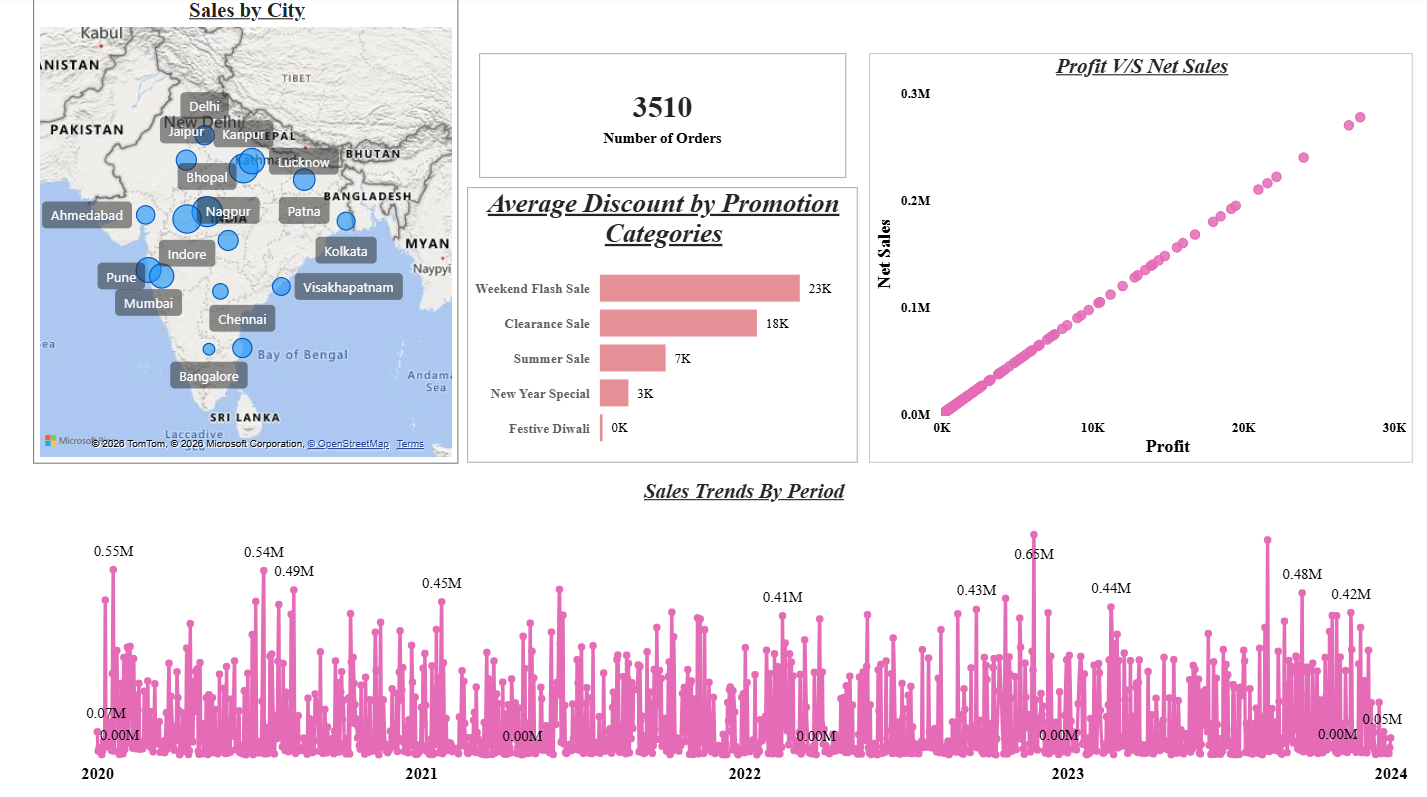

Layout of this report page (visuals, bound fields, positions):
{"tool":"powerbi","page":{"name":"Overview","canvas":[1280,720],"ordinal":0},"visuals":[{"type":"lineChart","title":"Sales Trends By Period","fields":{"Y":["Sum(Fact Table.Net Sales)"],"Category":["Fact Table.Date (dd/mm/yyyy).Variation.Date Hierarchy.Year"]},"box":[67.2,431.6,1198.2,280.3],"z":0},{"type":"scatterChart","title":"Profit V/S Net Sales","fields":{"X":["Fact Table.Profit"],"Y":["Fact Table.Net Sales"]},"box":[778.1,50.6,487.3,366.7],"z":1000},{"type":"barChart","title":"Average Discount by Promotion  Categories","fields":{"Y":["Avg(Fact Table.Discount)"],"Category":["Dim Promotion.Promotion Name"]},"box":[418.2,170.2,350.2,247.1],"z":2000},{"type":"map","title":" Sales by City","fields":{"Category":["Dim Customers.City"],"Size":["Sum(Fact Table.Net Sales)"]},"box":[29.2,0,381.3,418.2],"z":3000},{"type":"card","fields":{"Values":["Count(Fact Table.Order ID)"]},"box":[428.9,50.6,328.8,111.9],"z":4000}]}

Visuals, with their boxes in screenshot pixels (x1, y1, x2, y2), scaled from the page's 1280x720 canvas onto the 1427x797 screenshot:
"Sales Trends By Period" lineChart: <region>75, 478, 1411, 788</region>
"Profit V/S Net Sales" scatterChart: <region>867, 56, 1411, 462</region>
"Average Discount by Promotion  Categories" barChart: <region>466, 188, 857, 462</region>
" Sales by City" map: <region>33, 0, 458, 463</region>
card - Count(Fact Table.Order ID): <region>478, 56, 845, 180</region>
